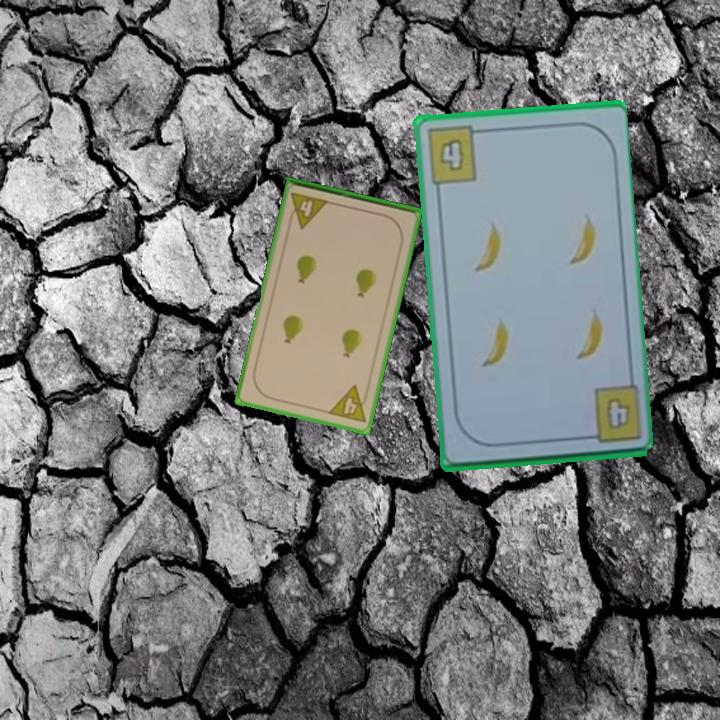4b: (422, 123, 486, 187), (605, 397, 630, 429)
4p: (324, 382, 372, 426), (285, 189, 332, 231)
